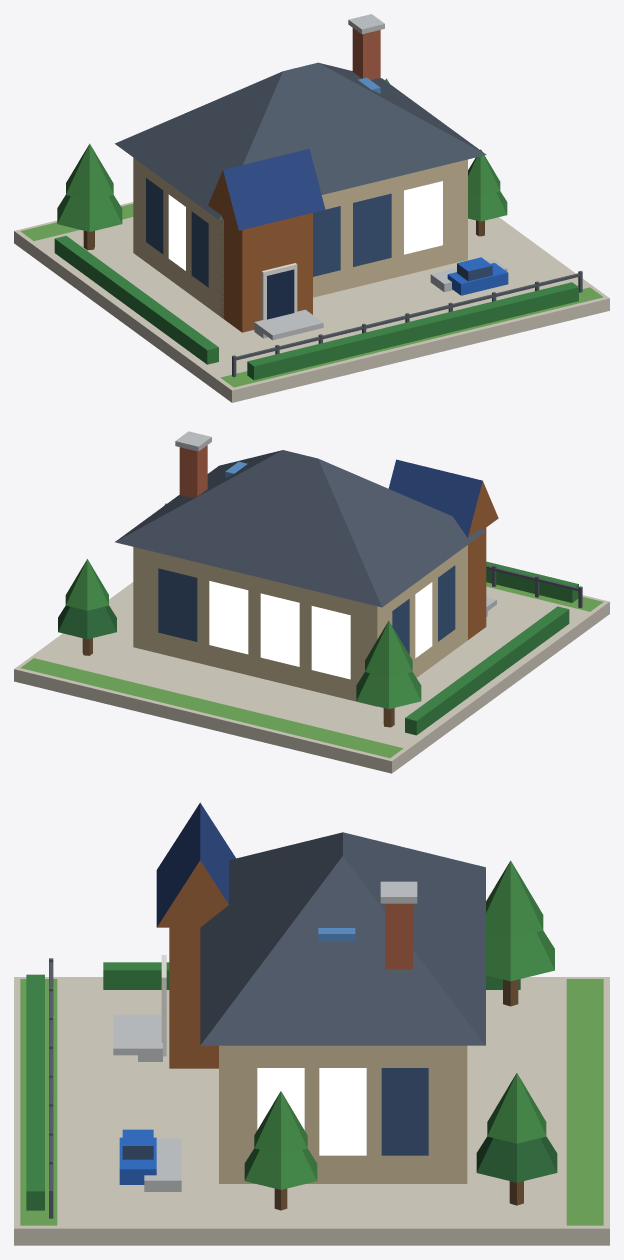
3 views of the same model, one above another, from view 1: azimuth 30°, elevation 25°; view 2: azimuth 150°, elevation 25°; view 3: azimuth 270°, elevation 25° (orthographic). The views are drawn at different scales.
Visible parts, largest first — view 1: b02; view 2: b02; view 3: b02.
Part boxes in pixels (x1=…): b02: x1=14, y1=14, x2=609, y2=402; b02: x1=14, y1=431, x2=609, y2=773; b02: x1=14, y1=802, x2=609, y2=1245.
Bounding box in the file's own units: 0.96 × 0.512 × 0.96.
